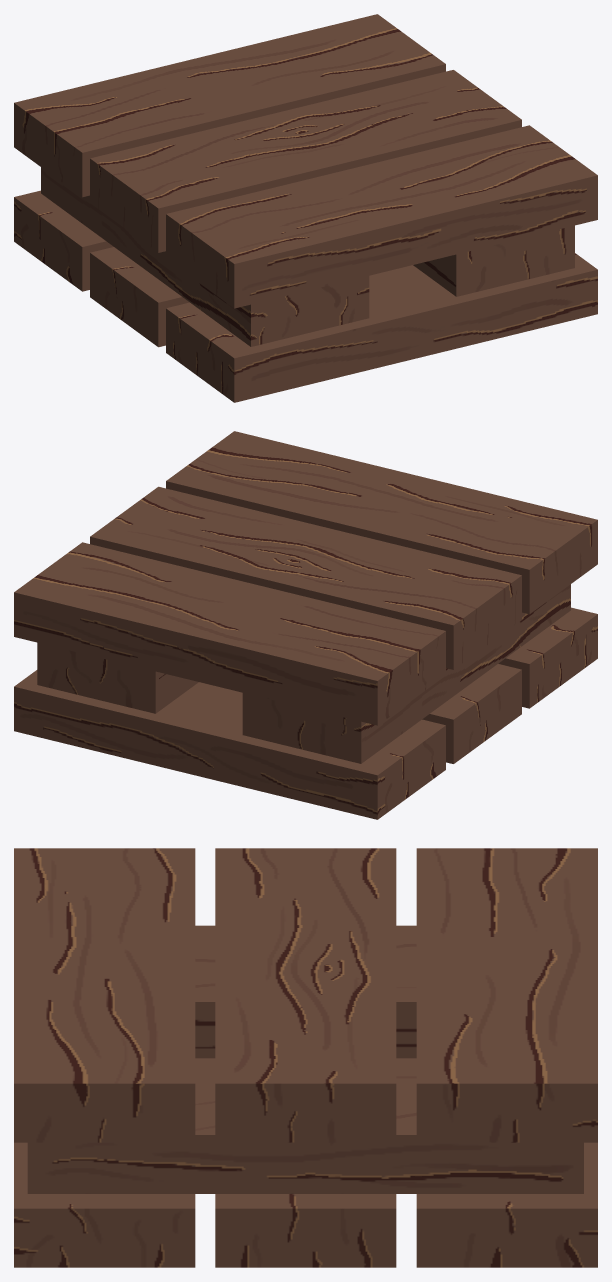
The model's file is pallet_2.fbx.
3 renders of one model, top to bottom at view 1: azimuth 30°, elevation 25°; view 2: azimuth 150°, elevation 25°; view 3: azimuth 270°, elevation 25°, orthographic. The views are drawn at different scales.
Visible parts, largest first — view 1: pallet_2; view 2: pallet_2; view 3: pallet_2.
Boxes of the visible parts, box(x1,y1,x2,y2) form: pallet_2: box(14, 14, 597, 402); pallet_2: box(14, 431, 597, 819); pallet_2: box(14, 848, 597, 1267).
Size of the model in its own units: 228 by 83.08 by 239.
